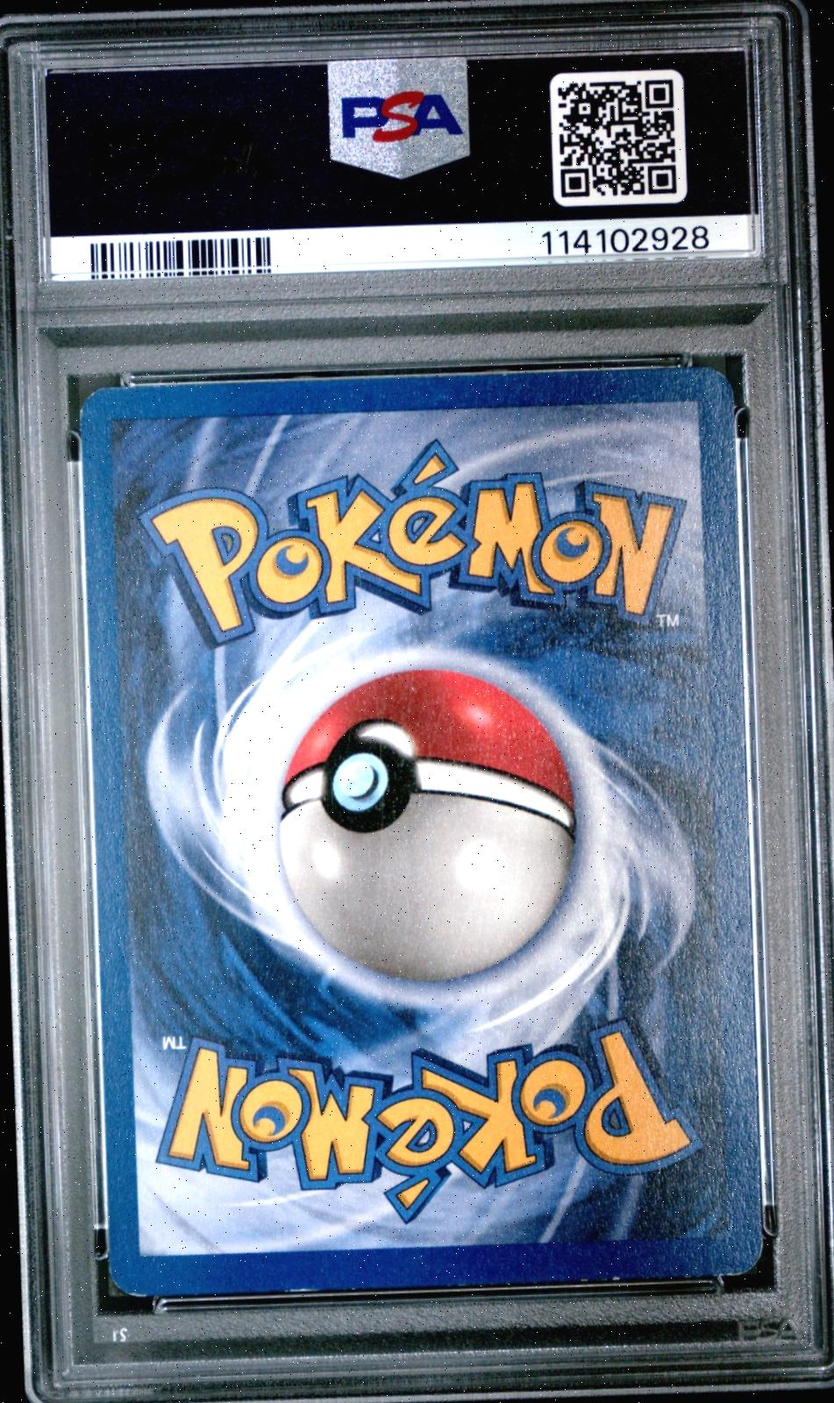card-2UtV: (78, 365, 764, 1298)
